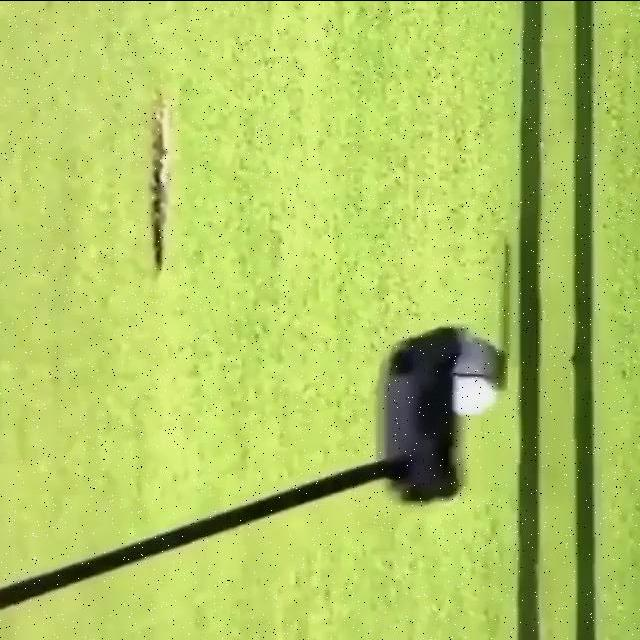golf ball: (447, 336, 506, 415)
golf club-handle: (0, 327, 460, 610)
golf club-head: (381, 327, 461, 503)
